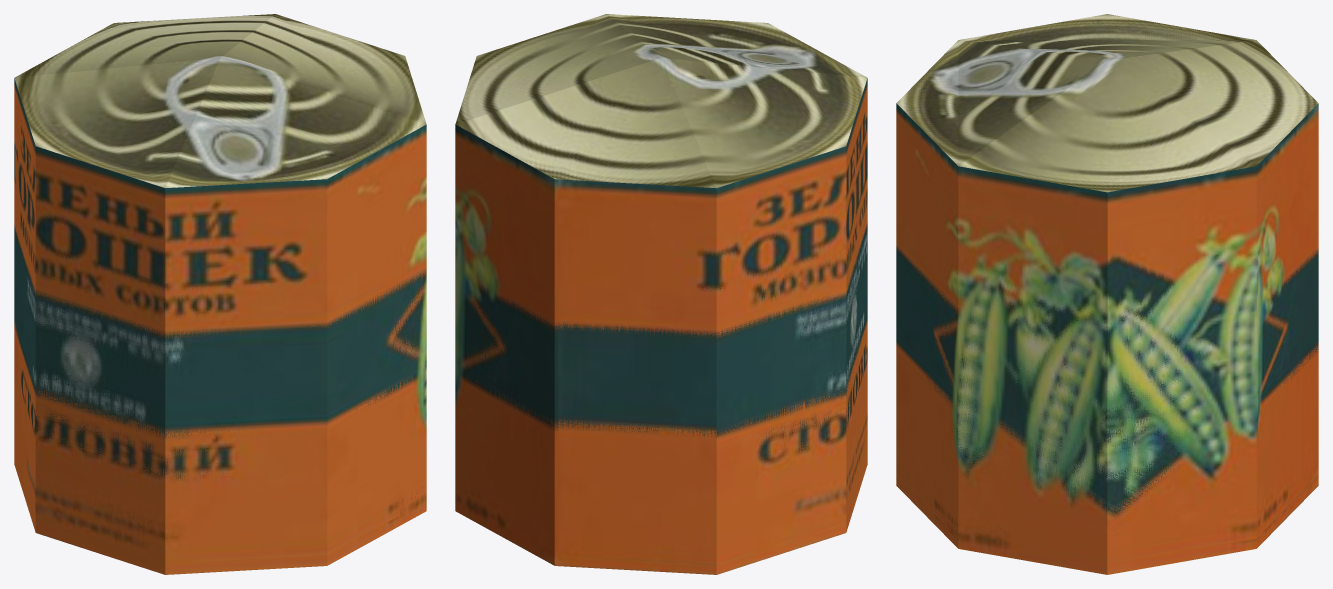
The model's file is Canned peas.fbx.
The picture shows the model from 3 angles, left to right: view 1: azimuth 30°, elevation 25°; view 2: azimuth 150°, elevation 25°; view 3: azimuth 270°, elevation 25°; orthographic projection.
Parts seen in each view (by area): view 1: Can (peas unopen expired), Can (peas open empty), Can (peas unopen fresh); view 2: Can (peas unopen expired), Can (peas open empty), Can (peas unopen fresh); view 3: Can (peas unopen expired), Can (peas open empty), Can (peas unopen fresh).
Part boxes in pixels (box(x1,y1,x2,y2)): Can (peas unopen expired): box(14, 14, 426, 574); Can (peas open empty): box(14, 79, 426, 564); Can (peas unopen fresh): box(15, 78, 416, 187); Can (peas unopen expired): box(455, 14, 867, 574); Can (peas open empty): box(455, 79, 867, 564); Can (peas unopen fresh): box(608, 14, 866, 187); Can (peas unopen expired): box(896, 14, 1318, 574); Can (peas open empty): box(896, 104, 1318, 564); Can (peas unopen fresh): box(897, 14, 1253, 165).
Size of the model in its own units: 200 by 222 by 200.
30 materials, 25 textured.
